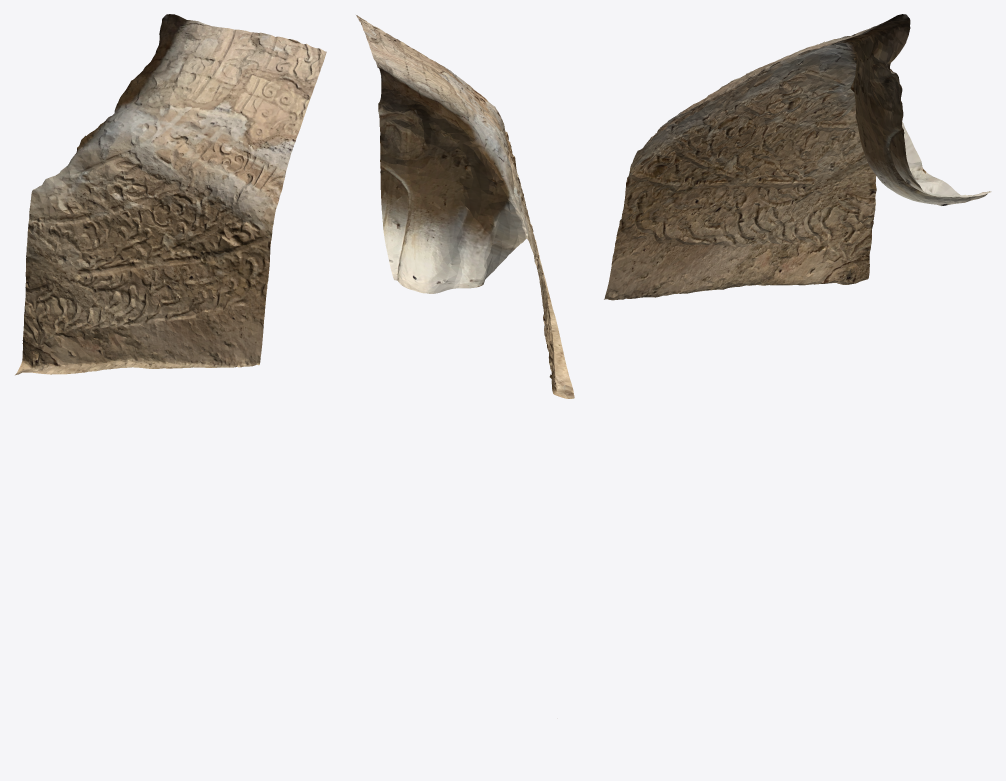
Rendered from tile_3_2.obj.
The picture shows the model from 3 angles, left to right: view 1: azimuth 30°, elevation 25°; view 2: azimuth 150°, elevation 25°; view 3: azimuth 270°, elevation 25°; orthographic projection. The views are drawn at different scales.
Parts seen in each view (by area): view 1: texture_0; view 2: texture_0; view 3: texture_0.
Part boxes in pixels (x1,y1,x2,y2): texture_0: (15,14,326,375); texture_0: (356,15,574,398); texture_0: (604,14,991,300).
Bounding box in the file's own units: 0.4195 × 1.02 × 0.436.
Materials: 1 (1 with a texture image).
